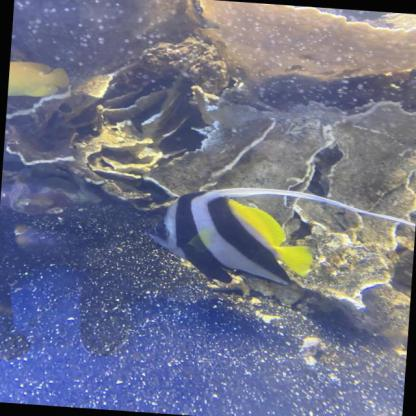fish: (145, 186, 318, 288)
